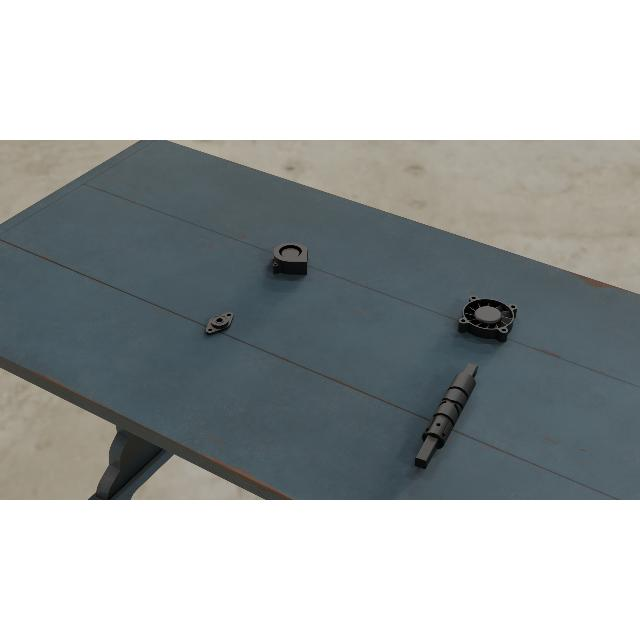Pieza1: (408, 357, 484, 475)
Pieza2: (200, 307, 240, 338)
Pieza3: (272, 242, 308, 276)
Pieza4: (456, 294, 520, 344)
